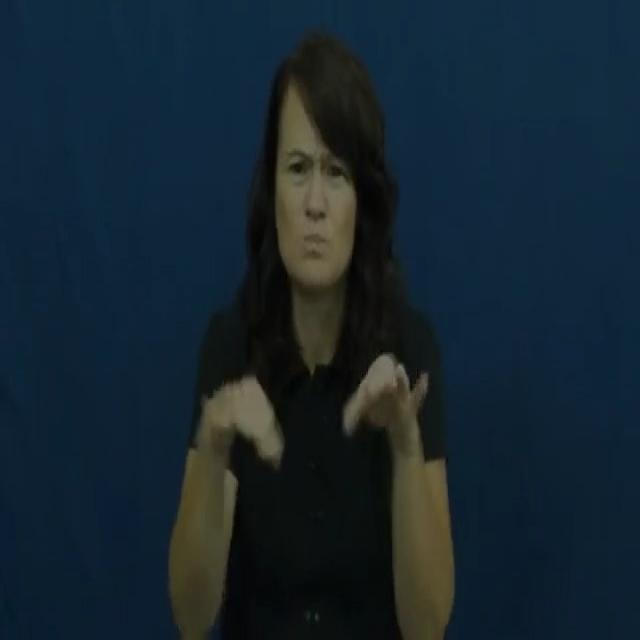urgent: (191, 316, 441, 510)
